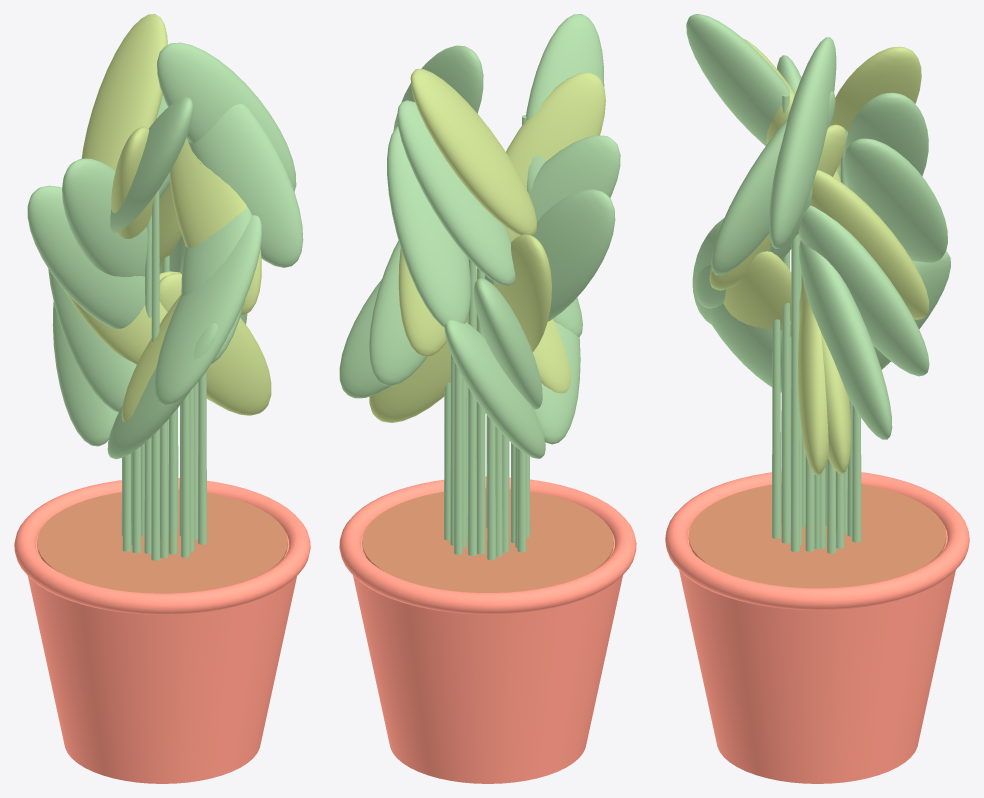
Rendered from olive_tree.glb.
3 renders of one model, left to right at view 1: azimuth 30°, elevation 25°; view 2: azimuth 150°, elevation 25°; view 3: azimuth 270°, elevation 25°, orthographic. The views are drawn at different scales.
Visible parts, largest first — view 1: olive_tree; view 2: olive_tree; view 3: olive_tree.
Boxes of the visible parts, x1=… form: olive_tree: x1=14, y1=14, x2=310, y2=783; olive_tree: x1=339, y1=14, x2=636, y2=783; olive_tree: x1=665, y1=14, x2=969, y2=783.
Bounding box in the file's own units: 0.3281 × 0.8394 × 0.326.
